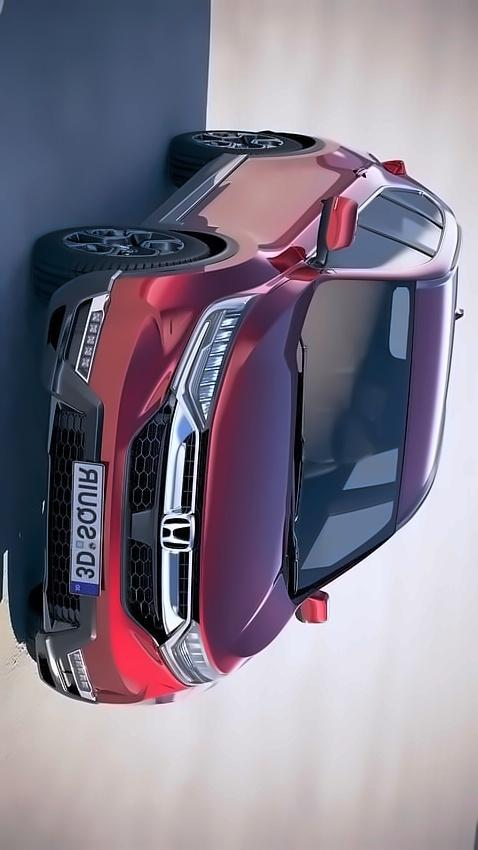Car hood: (197, 273, 300, 684)
Driver-s door - -F-R-: (174, 193, 450, 280)
Fender - -F-R-: (140, 217, 355, 301)
Front bumper: (24, 266, 176, 719)
Headlight - -L-: (153, 610, 228, 694)
Headlight - -R-: (172, 283, 256, 439)
Passenger-s door - -R-R-: (207, 149, 451, 249)
Rear light - -R-: (372, 154, 411, 188)
Side bumper - -R-: (134, 146, 252, 238)
Side mirror - -L-: (287, 582, 338, 629)
Side mirror - -R-: (303, 186, 374, 265)
